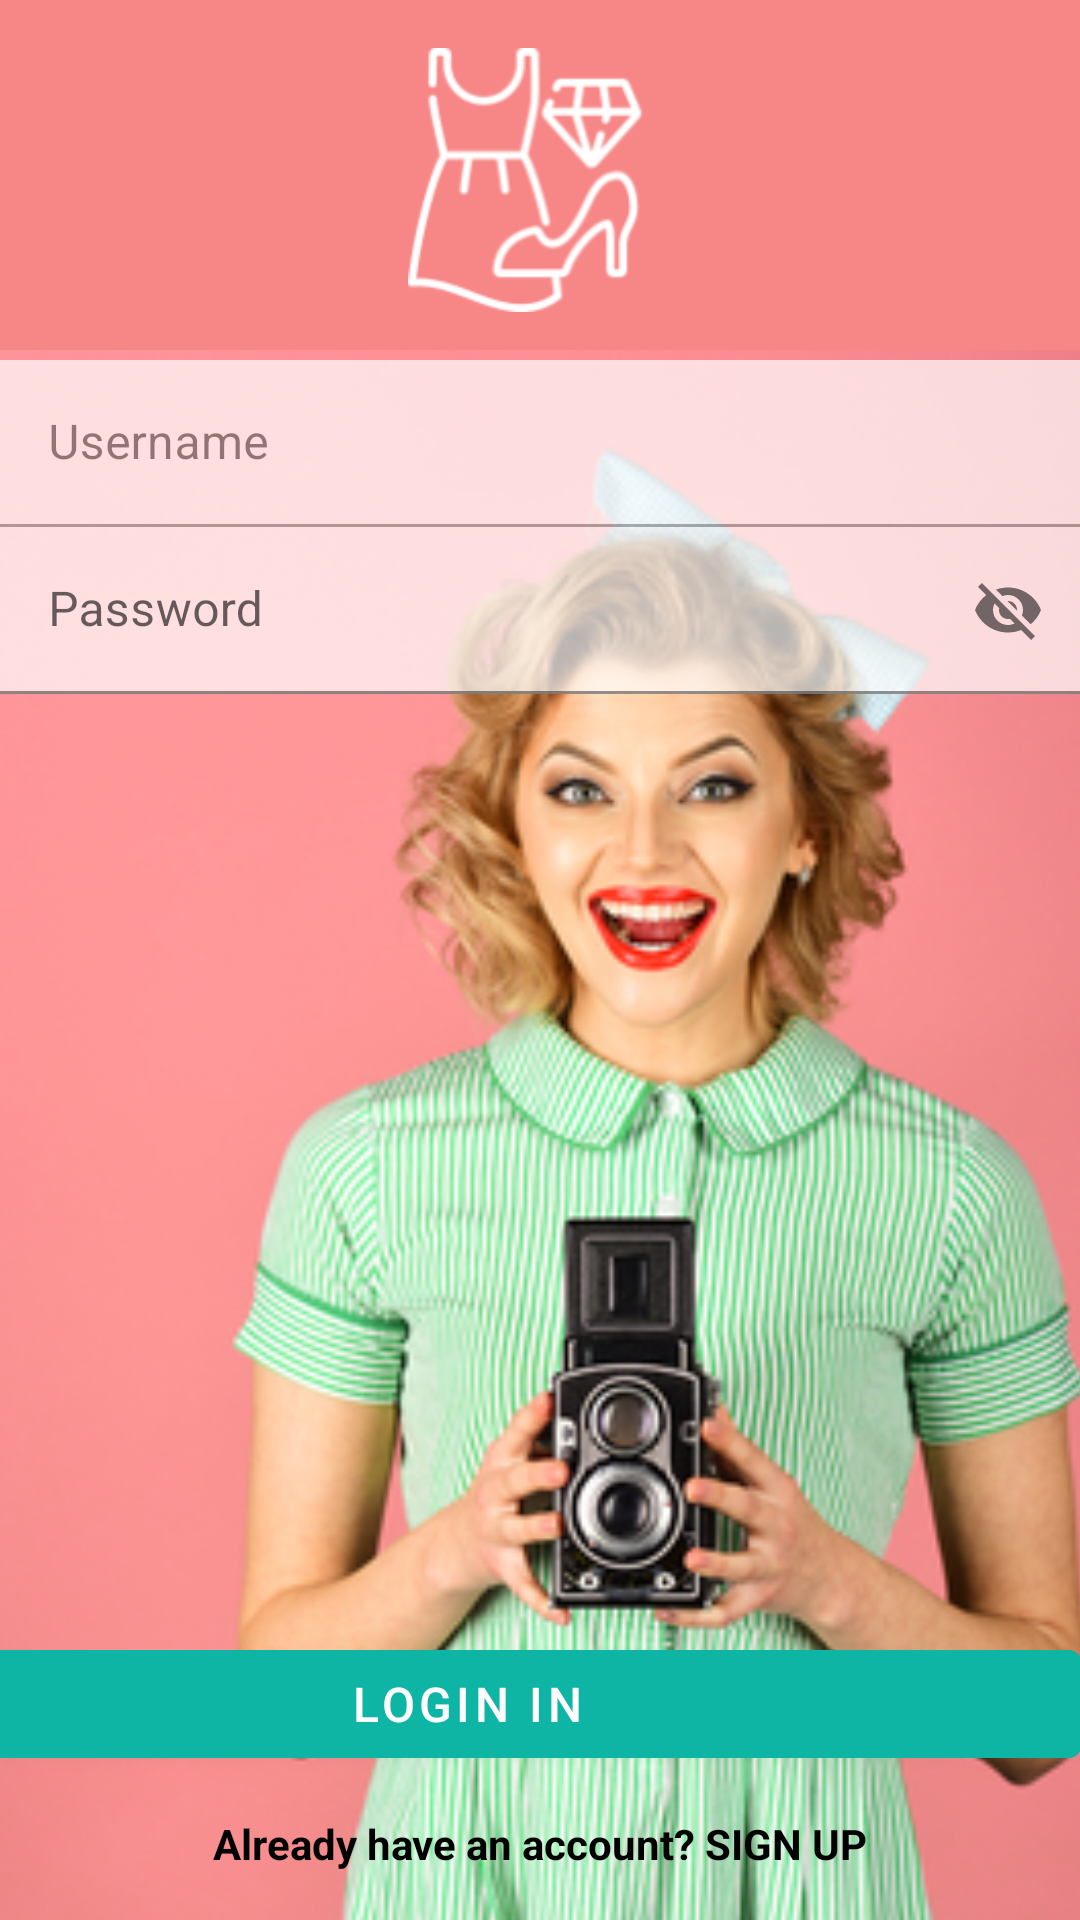

Icon bounding boxes for this 1080x1920 phone screenshot, format [x1=x1, y1=y1, x2=x2, y2=y2]:
moda: [x1=408, y1=48, x2=642, y2=312]
